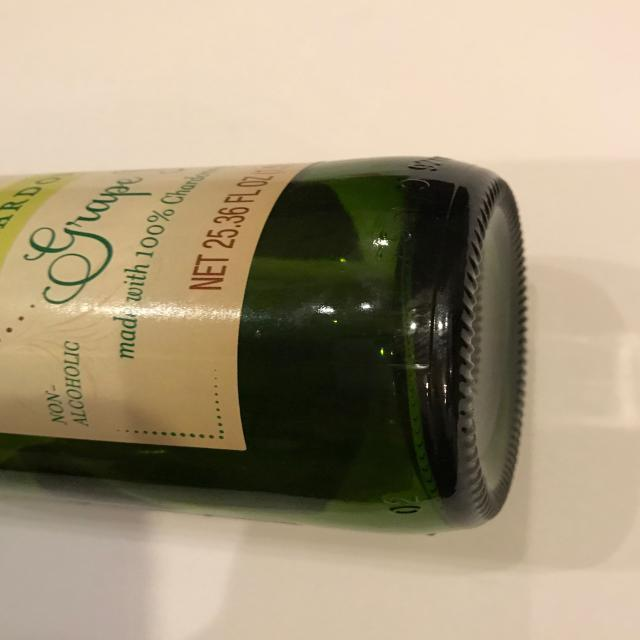glass: (0, 154, 527, 529)
